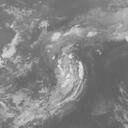cyclone: (46, 51, 85, 99)
